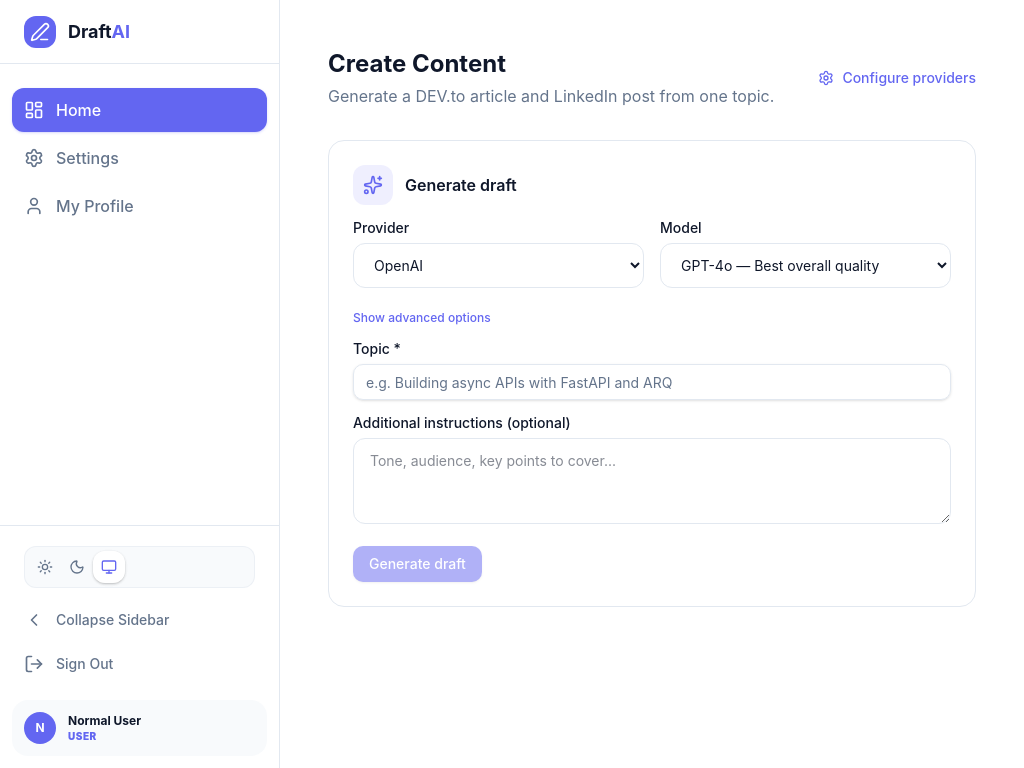
Test: Dashboard Component › shows error when generation fails
The image size is (1024, 768).
Expected: the dropdown labelled "Provider" is shown, [353, 243, 644, 288]
Type "Should fail" into the field labelled "Topic *" at (652, 382), box [353, 364, 951, 400]
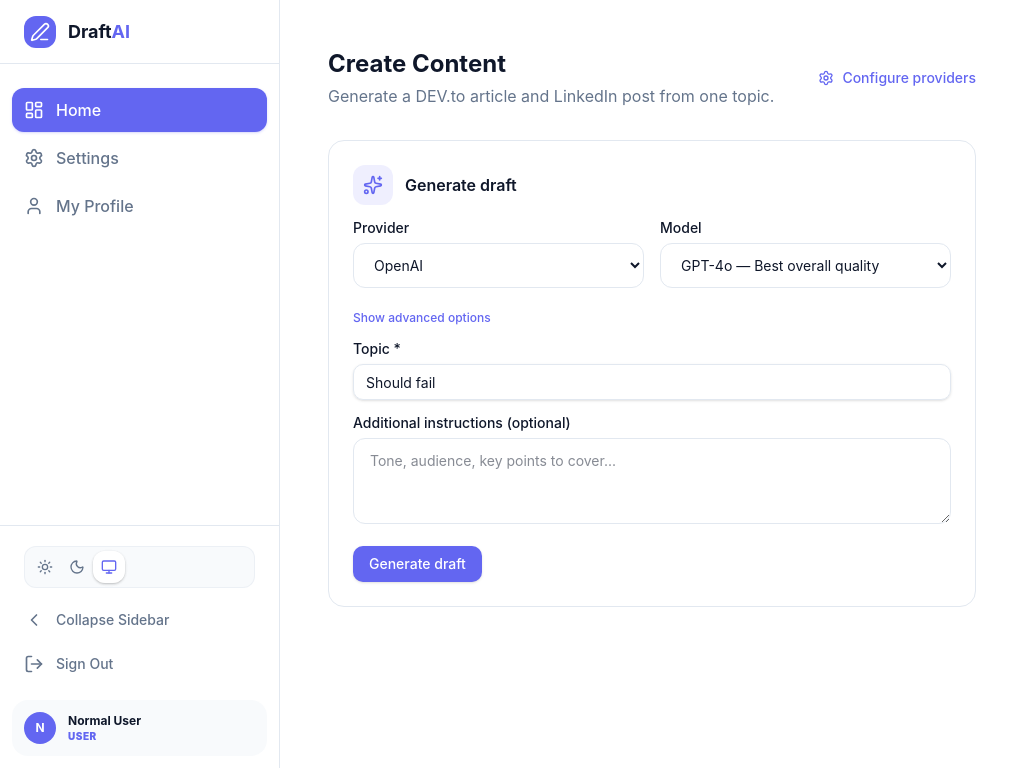
Click the button "Generate draft" at (417, 564), box [353, 546, 482, 582]
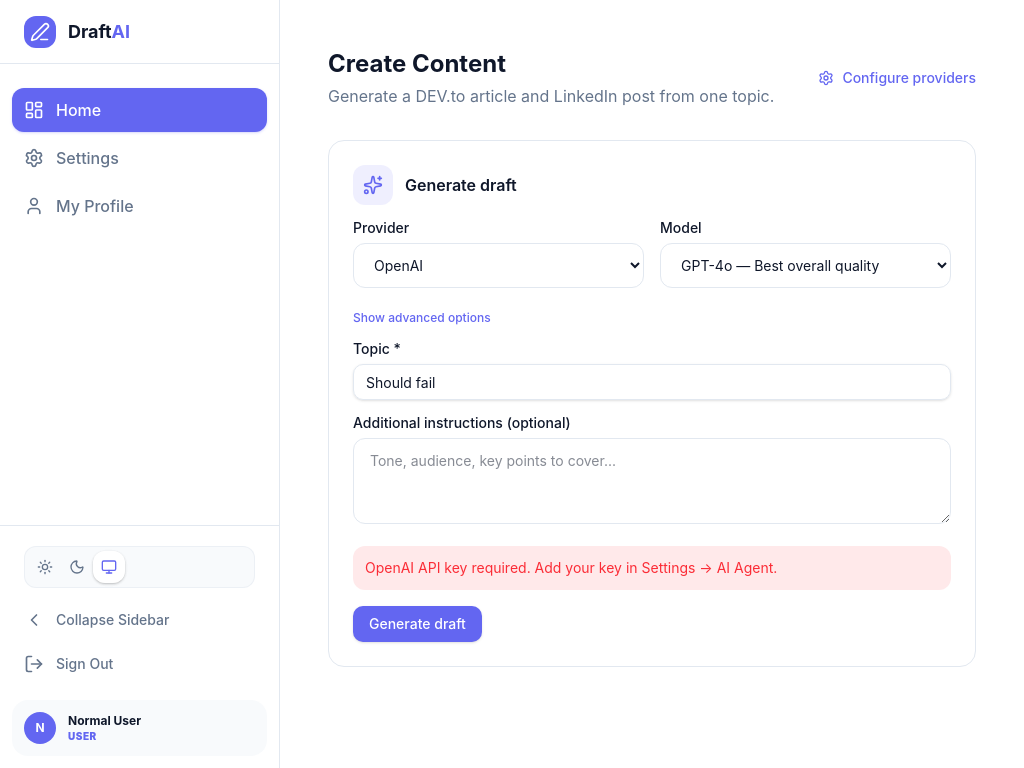
Result: the text "OpenAI API key required" is shown at [365, 559, 777, 576]
